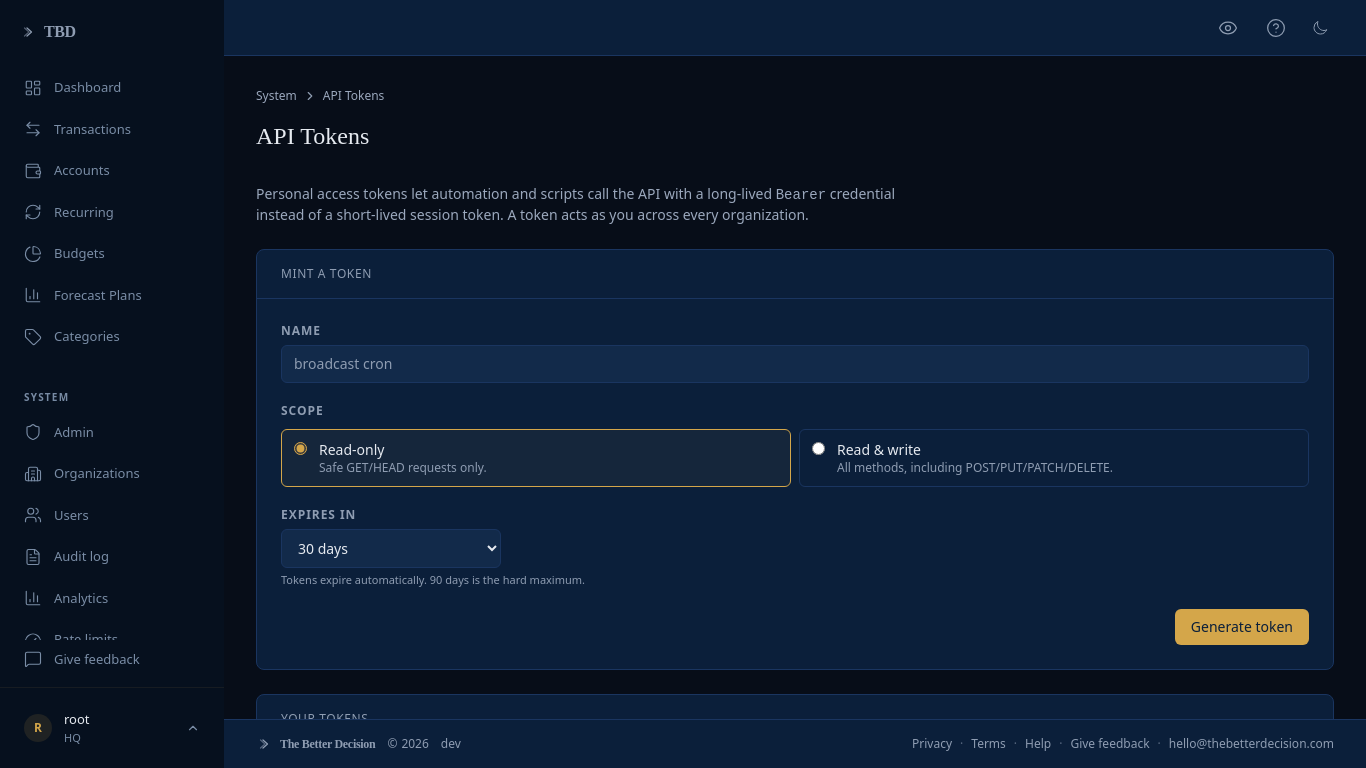
it: /system/api-tokens page › mints a token through the step-up modal and reveals it once
This screenshot has width=1366, height=768.
Type "local scripting" into the field with test id "mint-name".
click(795, 364); type("local scripting")  # box left=281, top=345, right=1309, bottom=383
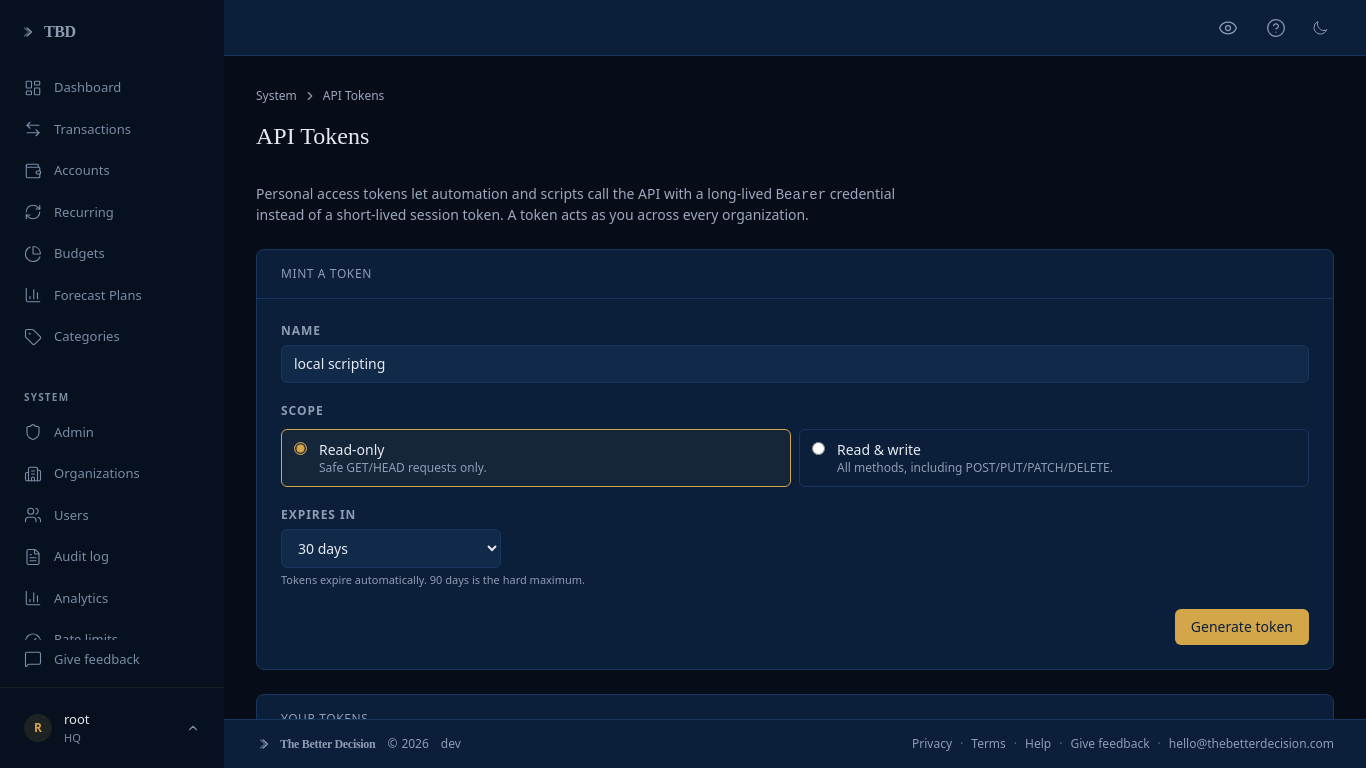
Click the radio button with test id "mint-scope-write".
click(818, 448)  # box left=812, top=442, right=825, bottom=455
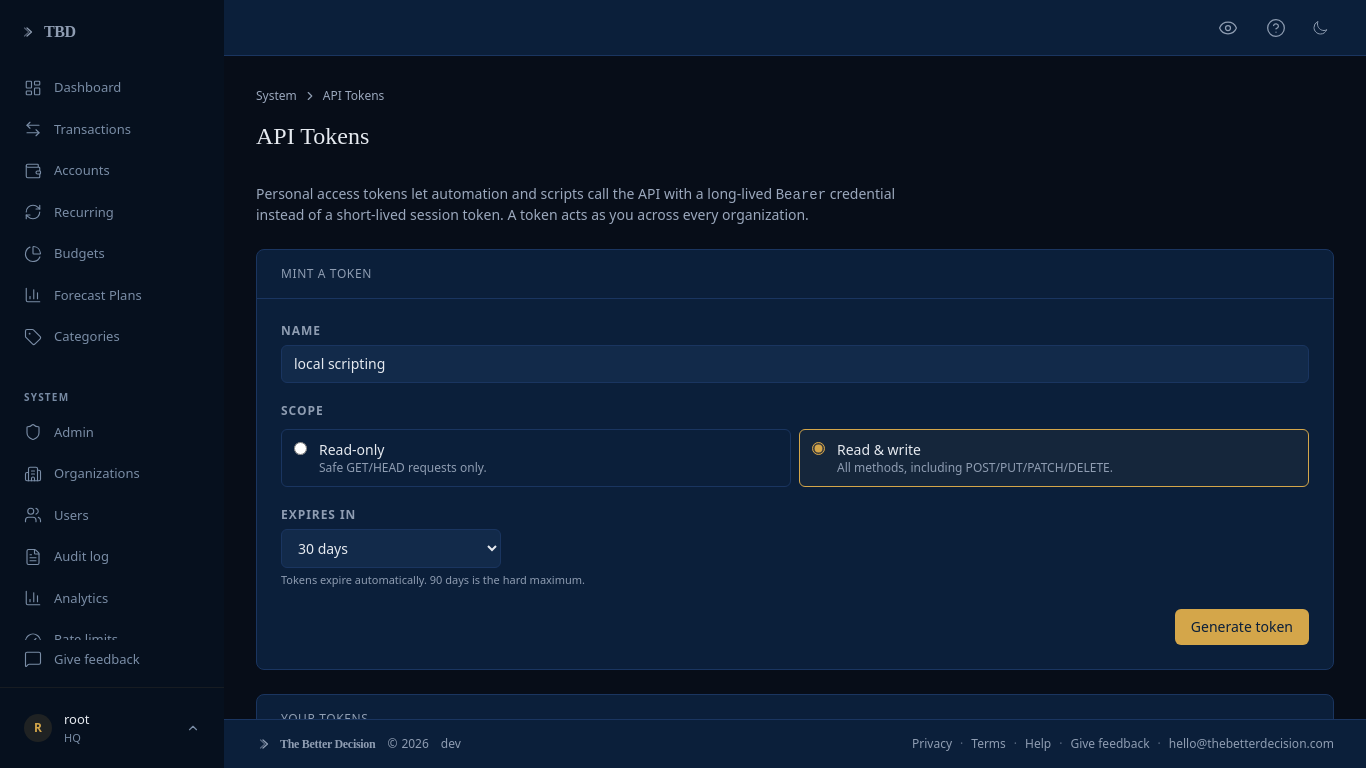
Submit the form with test id "mint-form", box left=257, top=299, right=1333, bottom=668
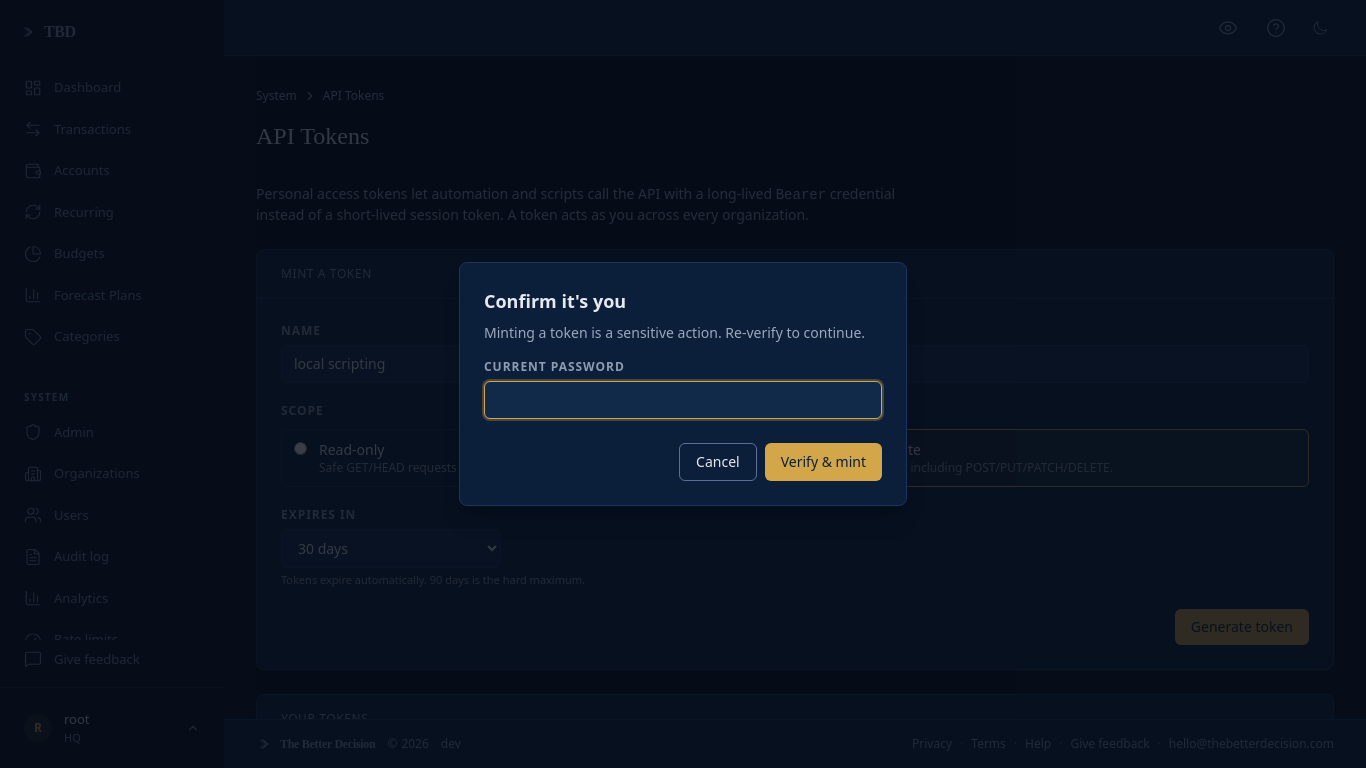
Step-up modal (password_set user, no MFA) collects the password.
Type "hunter2" into the password field with test id "stepup-password".
click(683, 400); type("hunter2")  # box left=484, top=381, right=882, bottom=419
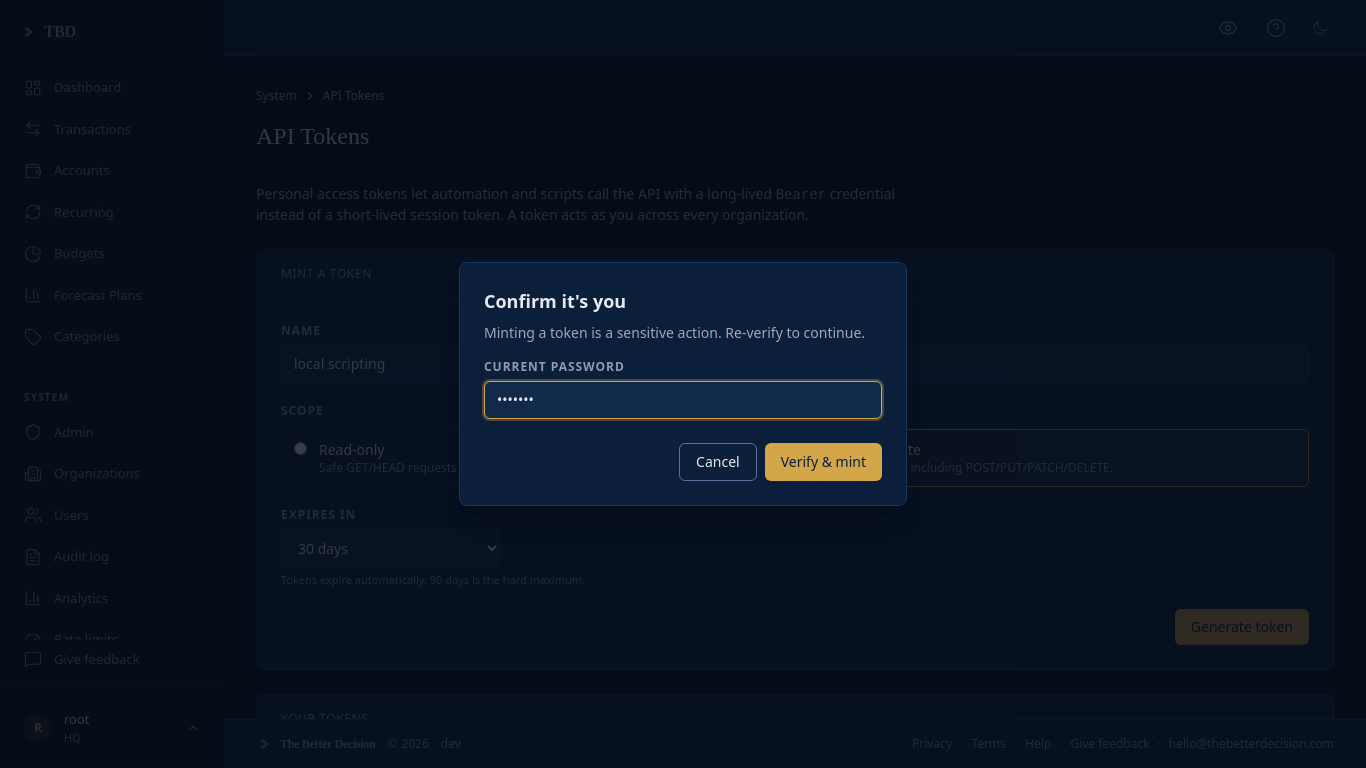
Click the button with test id "stepup-submit".
click(823, 462)  # box left=765, top=443, right=882, bottom=481
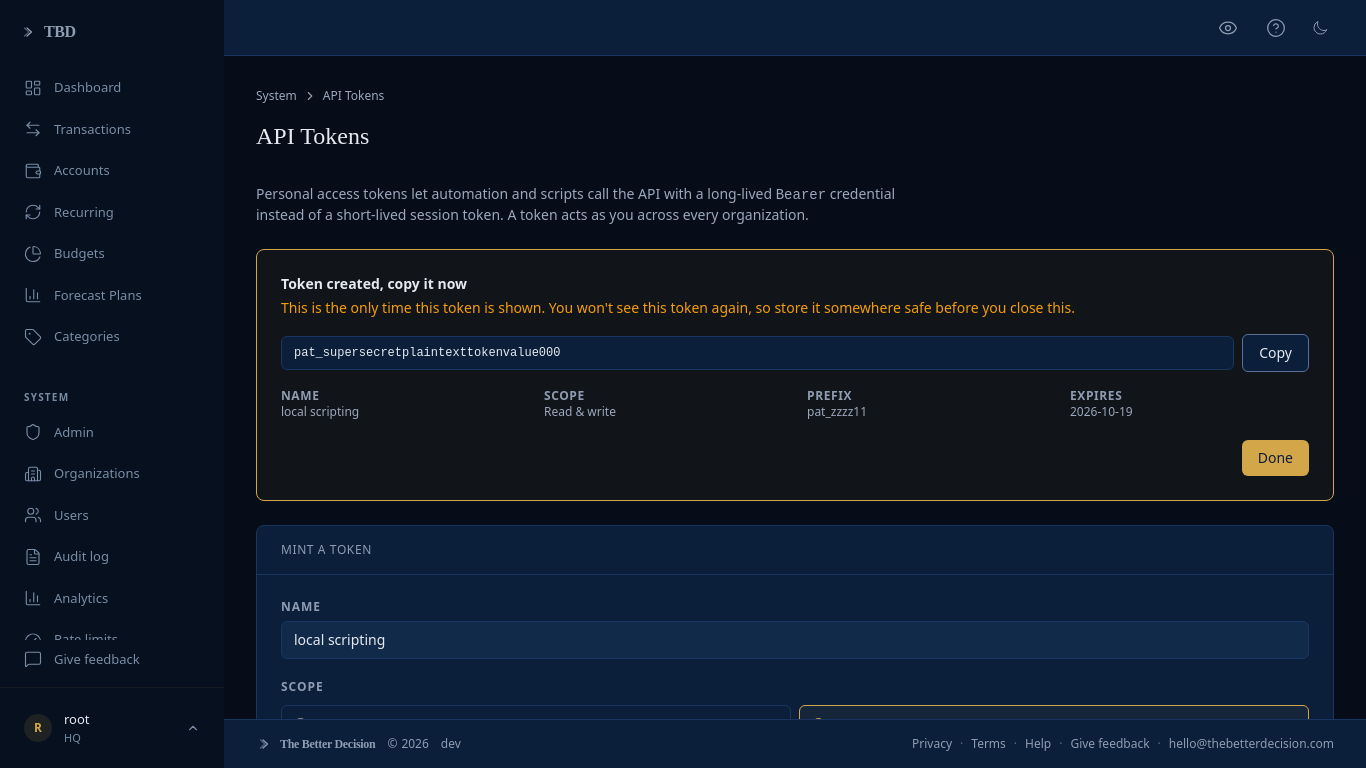
Expected: the text with test id "reveal-token" reads "pat_supersecretplaintexttokenvalue000", left=294, top=346, right=560, bottom=360
